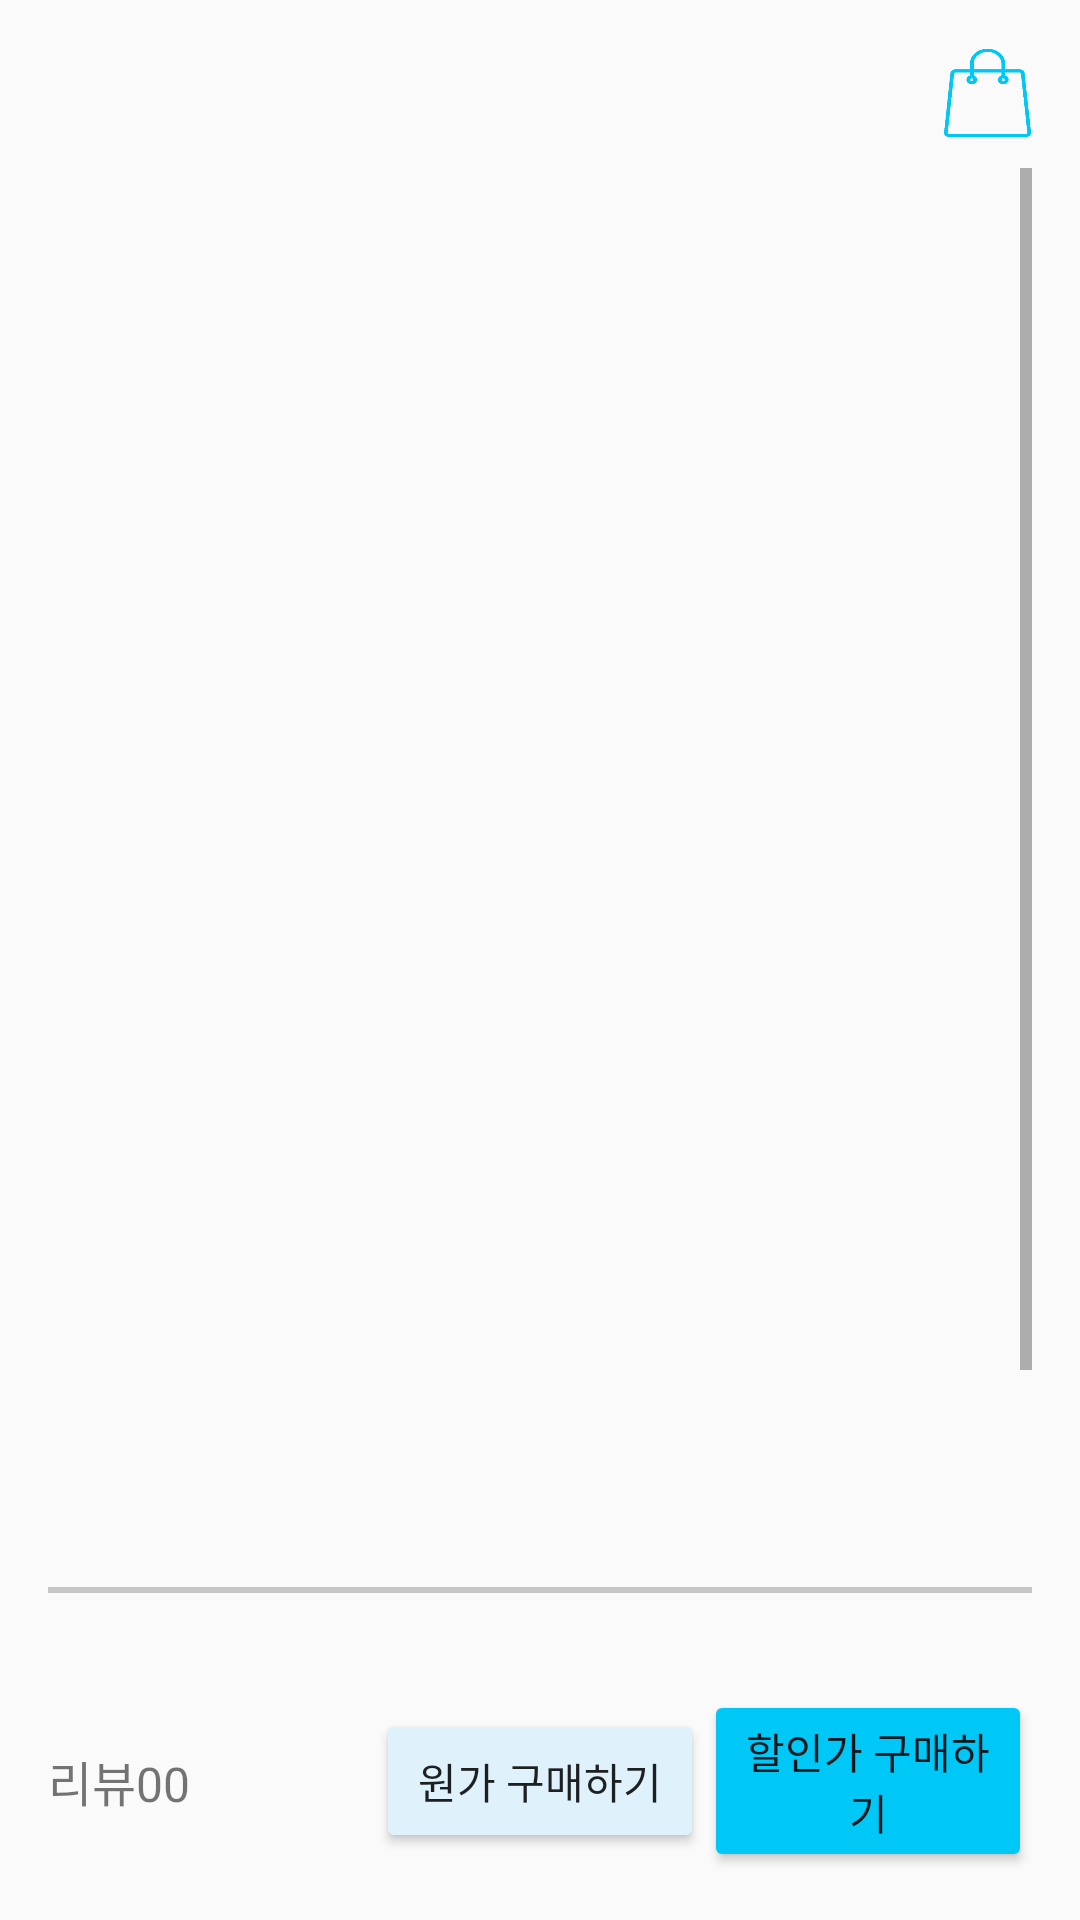

Where icons sit on this 1080w x 1920h app screen, as (x1, y1, x2, y2):
shoppingbag: (944, 49, 1031, 137)
